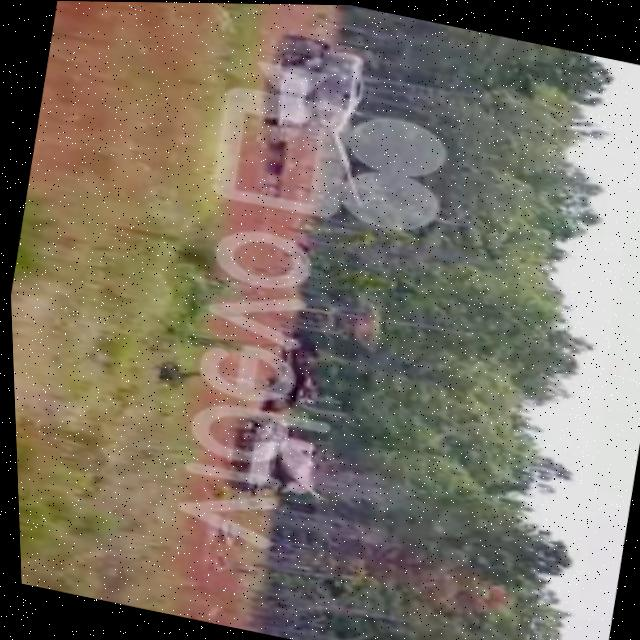rocket: (240, 304, 329, 461)
